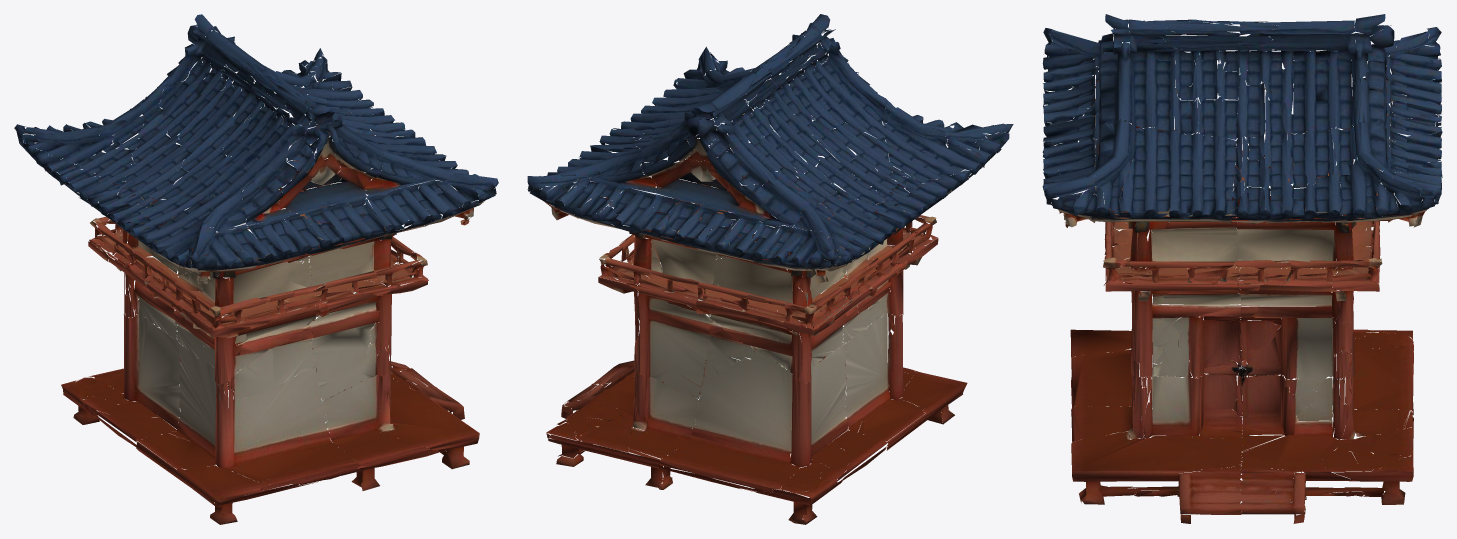
The model's file is vermilion_shrine_landmark.glb.
The picture shows the model from 3 angles, left to right: view 1: azimuth 30°, elevation 25°; view 2: azimuth 150°, elevation 25°; view 3: azimuth 270°, elevation 25°; orthographic projection. The views are drawn at different scales.
Visible parts, largest first — view 1: tripo_node_adc80985-5c5a-43e6-bc14-f19eec6113e5; view 2: tripo_node_adc80985-5c5a-43e6-bc14-f19eec6113e5; view 3: tripo_node_adc80985-5c5a-43e6-bc14-f19eec6113e5.
Part boxes in pixels (<box>): tripo_node_adc80985-5c5a-43e6-bc14-f19eec6113e5: <box>14,14,498,524</box>; tripo_node_adc80985-5c5a-43e6-bc14-f19eec6113e5: <box>527,14,1013,524</box>; tripo_node_adc80985-5c5a-43e6-bc14-f19eec6113e5: <box>1042,14,1442,523</box>.
Size of the model in its own units: 6.46 by 7.02 by 6.05.
1 material, 1 textured.
